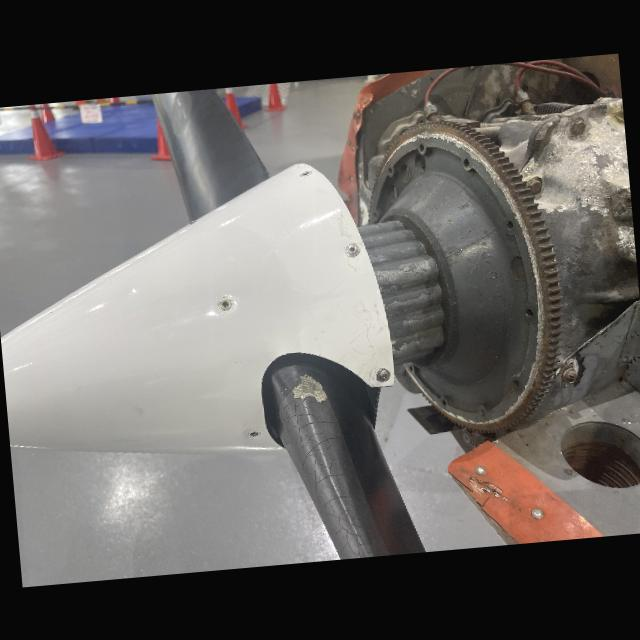Missing Fastener: (245, 427, 263, 443), (292, 168, 314, 180)
